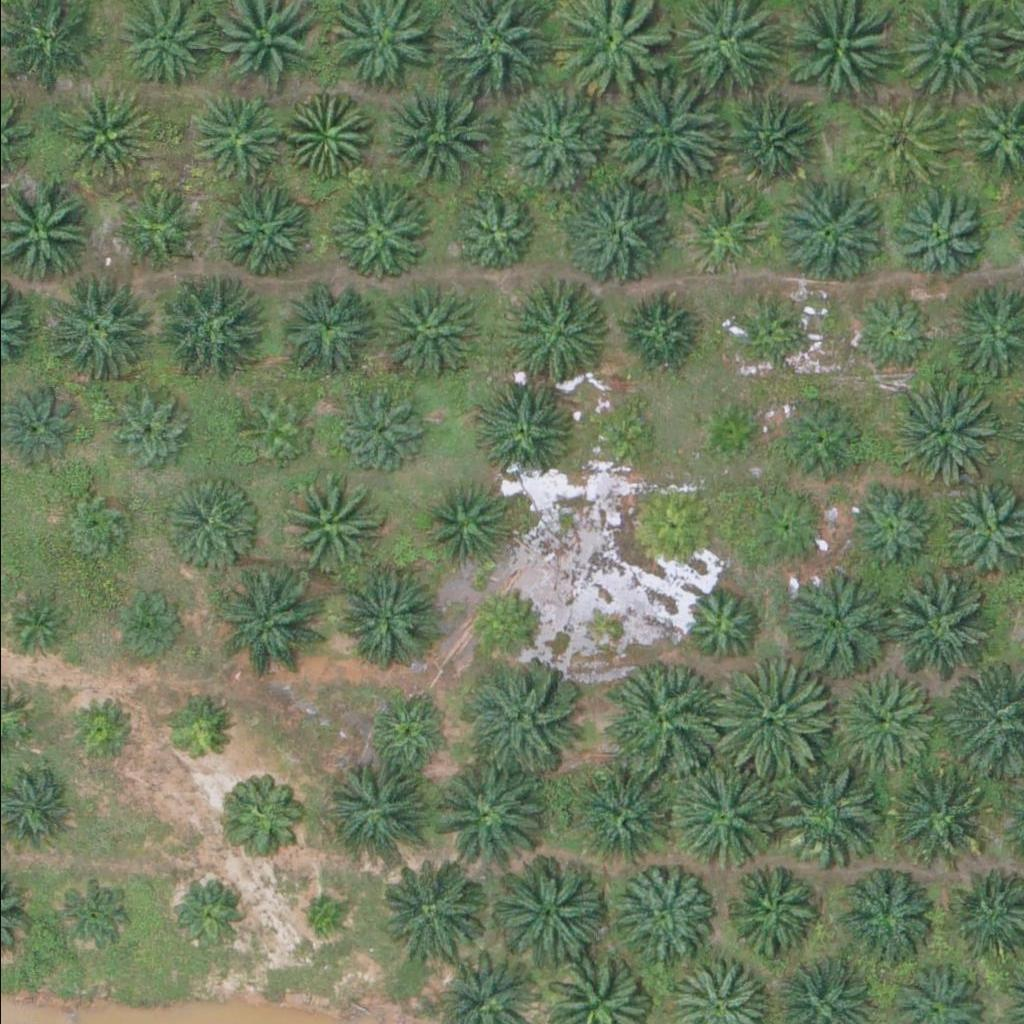Kelapa_Sawit: (490, 852, 603, 965), (373, 849, 486, 962), (609, 667, 722, 780), (461, 664, 574, 777), (773, 757, 886, 870), (887, 374, 1000, 487), (497, 86, 611, 198), (430, 756, 544, 868), (671, 760, 785, 872), (719, 662, 833, 774), (604, 73, 717, 185), (383, 78, 496, 190), (563, 176, 676, 288), (152, 267, 265, 379), (38, 268, 151, 380), (212, 569, 325, 681), (321, 761, 434, 873), (773, 175, 886, 287), (874, 571, 987, 683), (781, 566, 894, 678), (53, 84, 154, 184), (209, 183, 310, 283), (333, 182, 434, 282), (369, 284, 470, 384), (278, 282, 379, 382), (471, 375, 572, 475), (278, 474, 379, 574), (339, 571, 440, 671), (719, 857, 820, 957), (611, 864, 712, 964), (831, 673, 932, 773), (886, 184, 987, 284), (716, 88, 816, 188), (508, 281, 608, 381), (160, 475, 260, 575), (574, 771, 674, 871), (842, 869, 942, 969), (883, 764, 983, 864), (850, 93, 950, 193), (629, 482, 718, 570), (48, 873, 137, 961), (360, 688, 448, 776), (743, 482, 831, 570), (196, 95, 284, 183), (121, 189, 209, 277), (106, 389, 194, 477), (223, 773, 311, 861), (845, 287, 933, 375), (846, 484, 935, 571), (680, 190, 768, 277), (288, 93, 376, 180), (446, 194, 534, 281), (616, 289, 704, 376), (339, 387, 427, 474), (419, 481, 507, 568), (167, 871, 255, 958), (675, 578, 763, 665), (773, 393, 861, 480), (470, 585, 546, 660), (108, 588, 184, 663), (693, 393, 769, 468), (585, 397, 661, 472), (723, 299, 798, 374), (159, 693, 234, 768), (238, 394, 313, 469), (54, 492, 129, 567), (63, 693, 138, 768), (290, 890, 340, 940)
